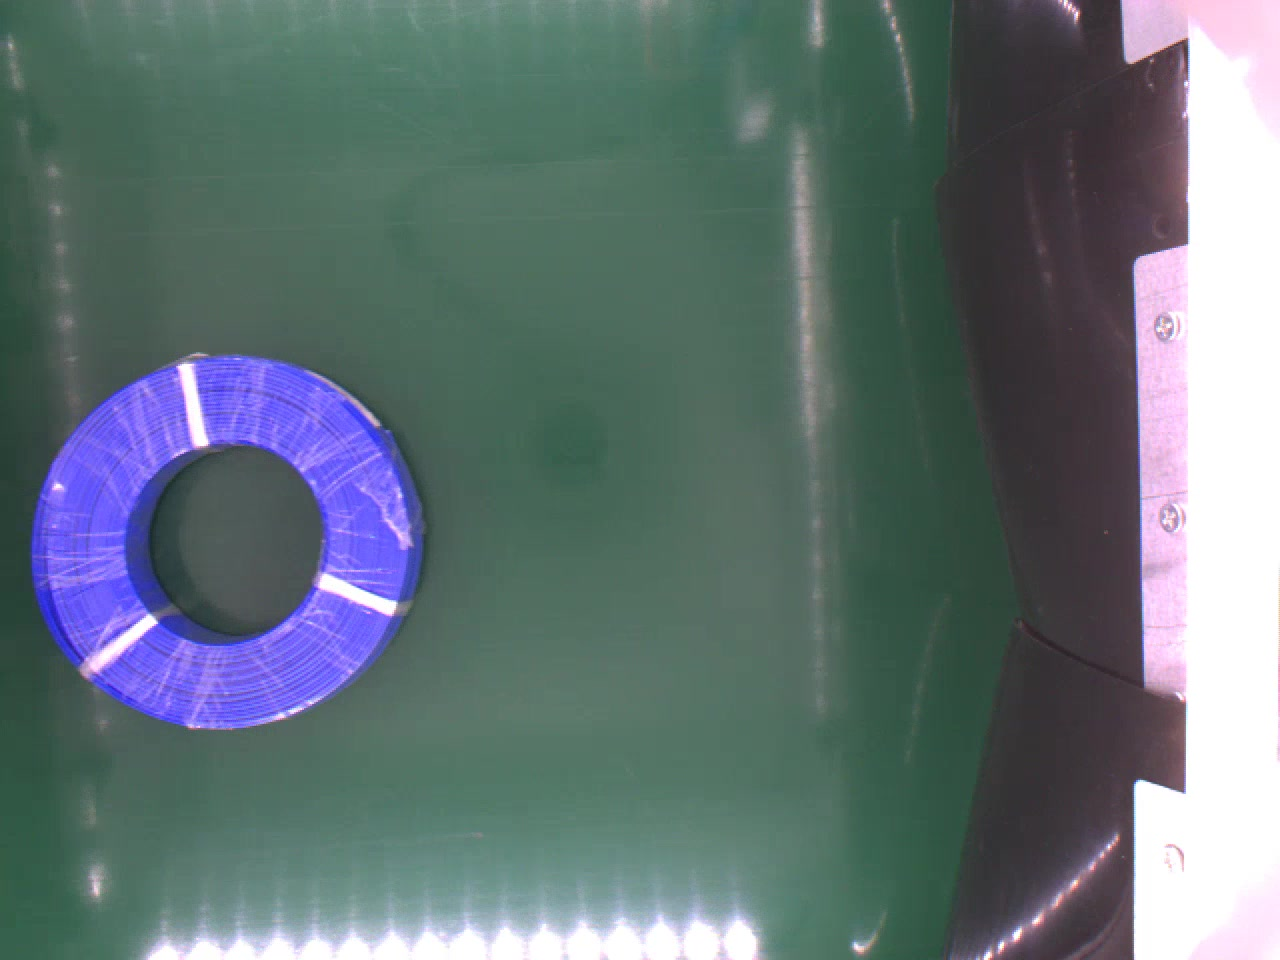blue: (31, 347, 423, 731)
